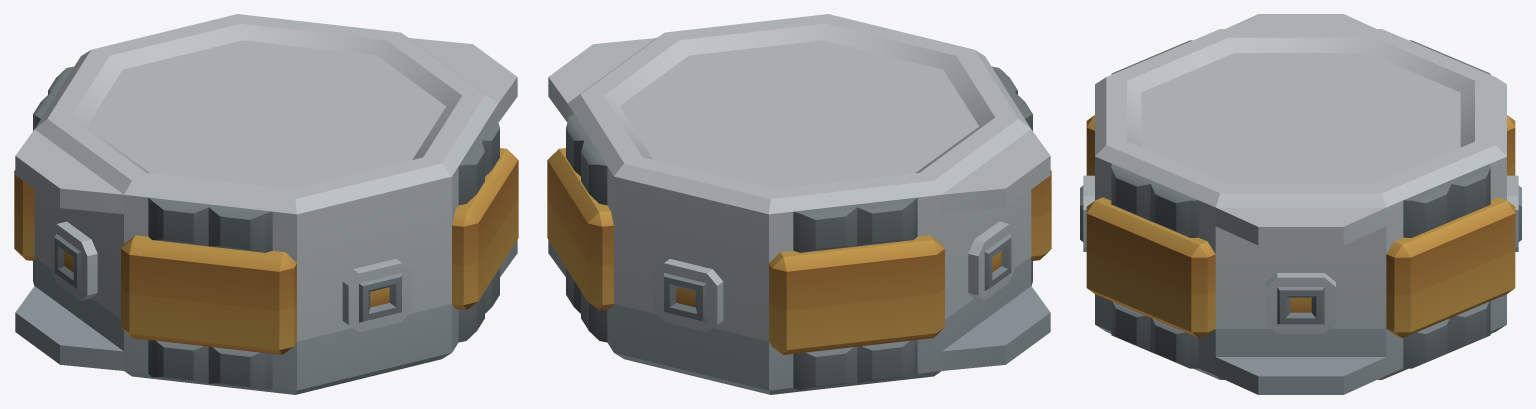
The model's file is space-basemodule-d.glb.
3 renders of one model, left to right at view 1: azimuth 30°, elevation 25°; view 2: azimuth 150°, elevation 25°; view 3: azimuth 270°, elevation 25°, orthographic. The views are drawn at different scales.
Parts seen in each view (by area): view 1: basemodule_D; view 2: basemodule_D; view 3: basemodule_D.
Part boxes in pixels (x1,y1,x2,y2): basemodule_D: (14, 14, 518, 394); basemodule_D: (547, 14, 1051, 394); basemodule_D: (1080, 14, 1521, 394).
Bounding box in the file's own units: 2.44 × 1 × 2.14.
